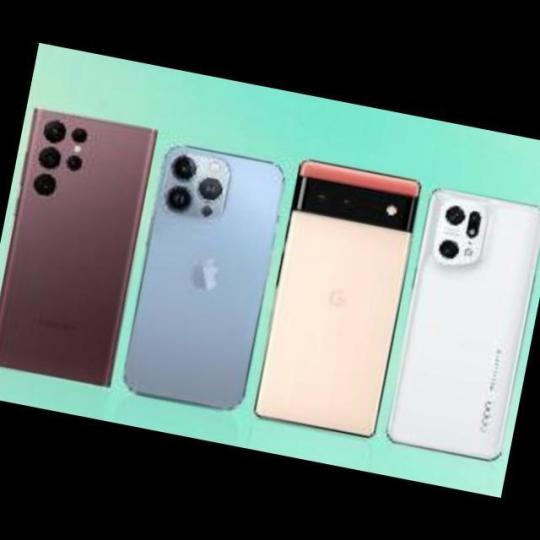phone: (254, 157, 422, 439), (0, 110, 154, 390), (124, 145, 284, 413), (386, 187, 540, 462)
